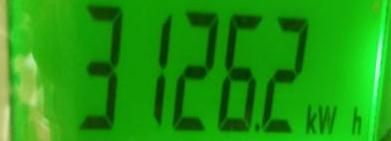.: (303, 102, 369, 139)
0: (252, 122, 261, 132)
2: (152, 14, 172, 126)
3: (263, 14, 309, 137), (173, 11, 218, 131)
4: (78, 4, 125, 132)
7: (217, 14, 261, 134)
